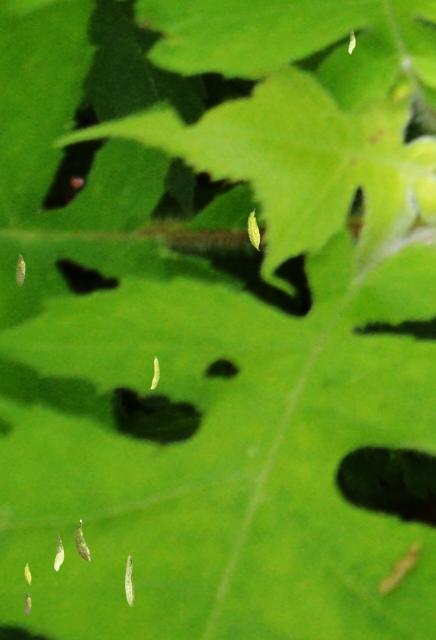ampalaya: (73, 519, 91, 562), (124, 555, 135, 606), (247, 208, 260, 251), (53, 531, 64, 571), (15, 254, 26, 286), (150, 356, 160, 389), (348, 25, 355, 54), (23, 592, 31, 617), (24, 561, 31, 585)
